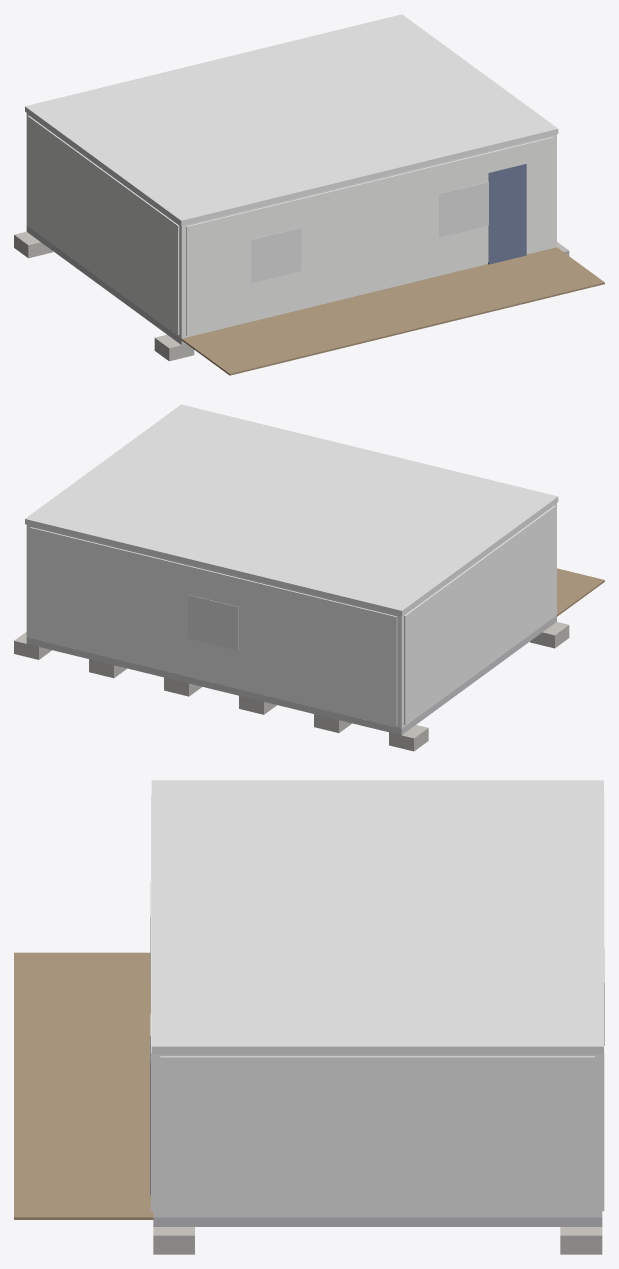
File: Studio-30-TerraceDeck-LOD2.glb
3 renders of one model, top to bottom at view 1: azimuth 30°, elevation 25°; view 2: azimuth 150°, elevation 25°; view 3: azimuth 270°, elevation 25°, orthographic. The views are drawn at different scales.
Visible parts, largest first — view 1: RoofMain, ExteriorPanelsStandard, TerraceDeck, WindowsStandard, EntryDoor, ExteriorShell, FoundationBlocks, BaseFrame; view 2: RoofMain, ExteriorPanelsStandard, BaseFrame, FoundationBlocks, ExteriorShell, WindowsStandard, TerraceDeck; view 3: RoofMain, ExteriorPanelsStandard, TerraceDeck, ExteriorShell, BaseFrame, FoundationBlocks.
Part boxes in pixels (bbox=[...]): RoofMain: bbox=[25, 14, 558, 225]; ExteriorPanelsStandard: bbox=[27, 115, 553, 335]; TerraceDeck: bbox=[181, 247, 604, 375]; WindowsStandard: bbox=[251, 181, 488, 283]; EntryDoor: bbox=[488, 164, 526, 264]; ExteriorShell: bbox=[26, 113, 556, 338]; FoundationBlocks: bbox=[14, 231, 569, 361]; BaseFrame: bbox=[26, 225, 185, 344]; RoofMain: bbox=[25, 404, 558, 615]; ExteriorPanelsStandard: bbox=[30, 506, 555, 725]; BaseFrame: bbox=[26, 615, 556, 735]; FoundationBlocks: bbox=[14, 622, 569, 751]; ExteriorShell: bbox=[26, 503, 556, 728]; WindowsStandard: bbox=[188, 595, 238, 650]; TerraceDeck: bbox=[557, 568, 604, 616]; RoofMain: bbox=[151, 780, 603, 1053]; ExteriorPanelsStandard: bbox=[151, 794, 604, 1215]; TerraceDeck: bbox=[14, 952, 153, 1219]; ExteriorShell: bbox=[153, 1054, 602, 1217]; BaseFrame: bbox=[153, 1217, 602, 1226]; FoundationBlocks: bbox=[153, 1227, 602, 1254].
Bounding box in the file's own units: 9.6 × 3.17 × 8.49.
